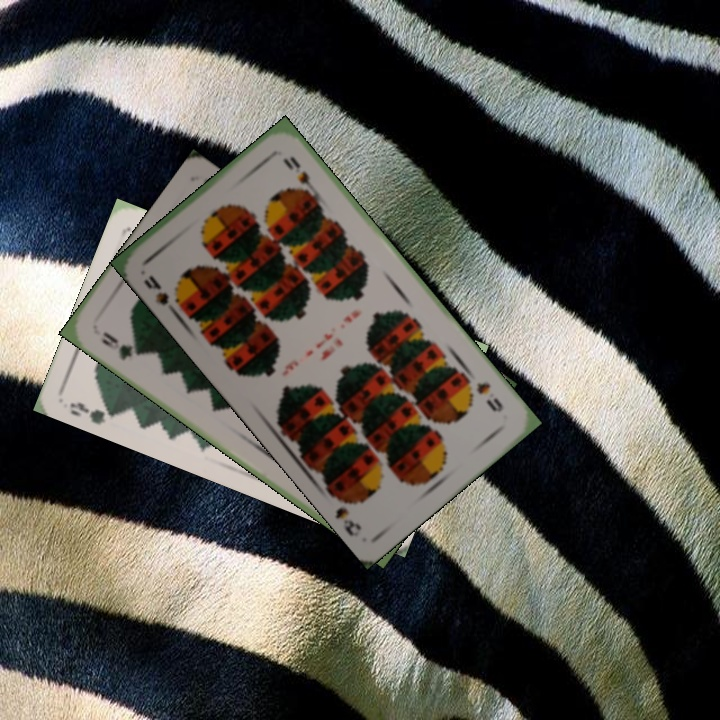G9: (97, 327, 146, 363), (65, 398, 122, 427)
S9: (140, 271, 186, 318), (472, 378, 506, 415)
